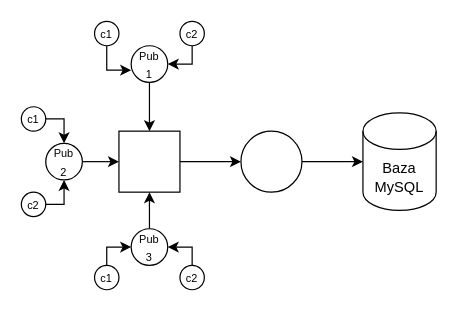
The diagram is 458 pixels wide and 321 high, and some of its shapes have lost their labels. The shapes that lost their labels are listed below. From the top down, each one's centre as x and y in pixels, then its label:
the point at 149,161: Broker Mosquitto MQTT
the point at 271,161: Subscriber MQTT
